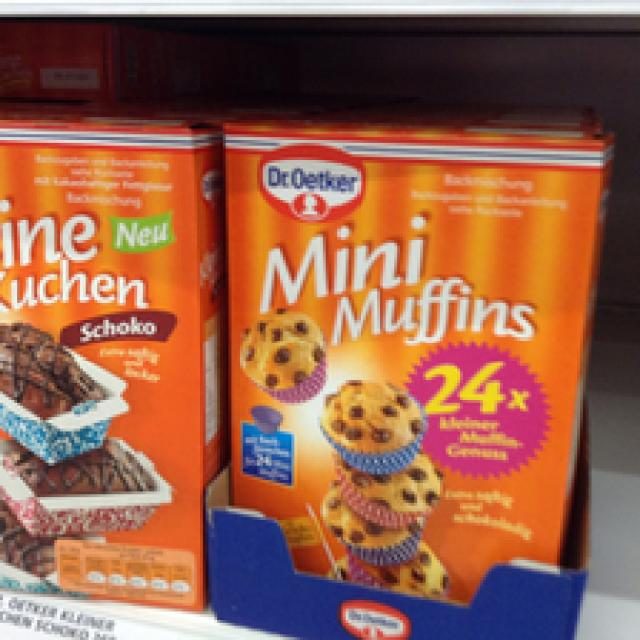groceries: (223, 112, 614, 617), (0, 111, 220, 606)
